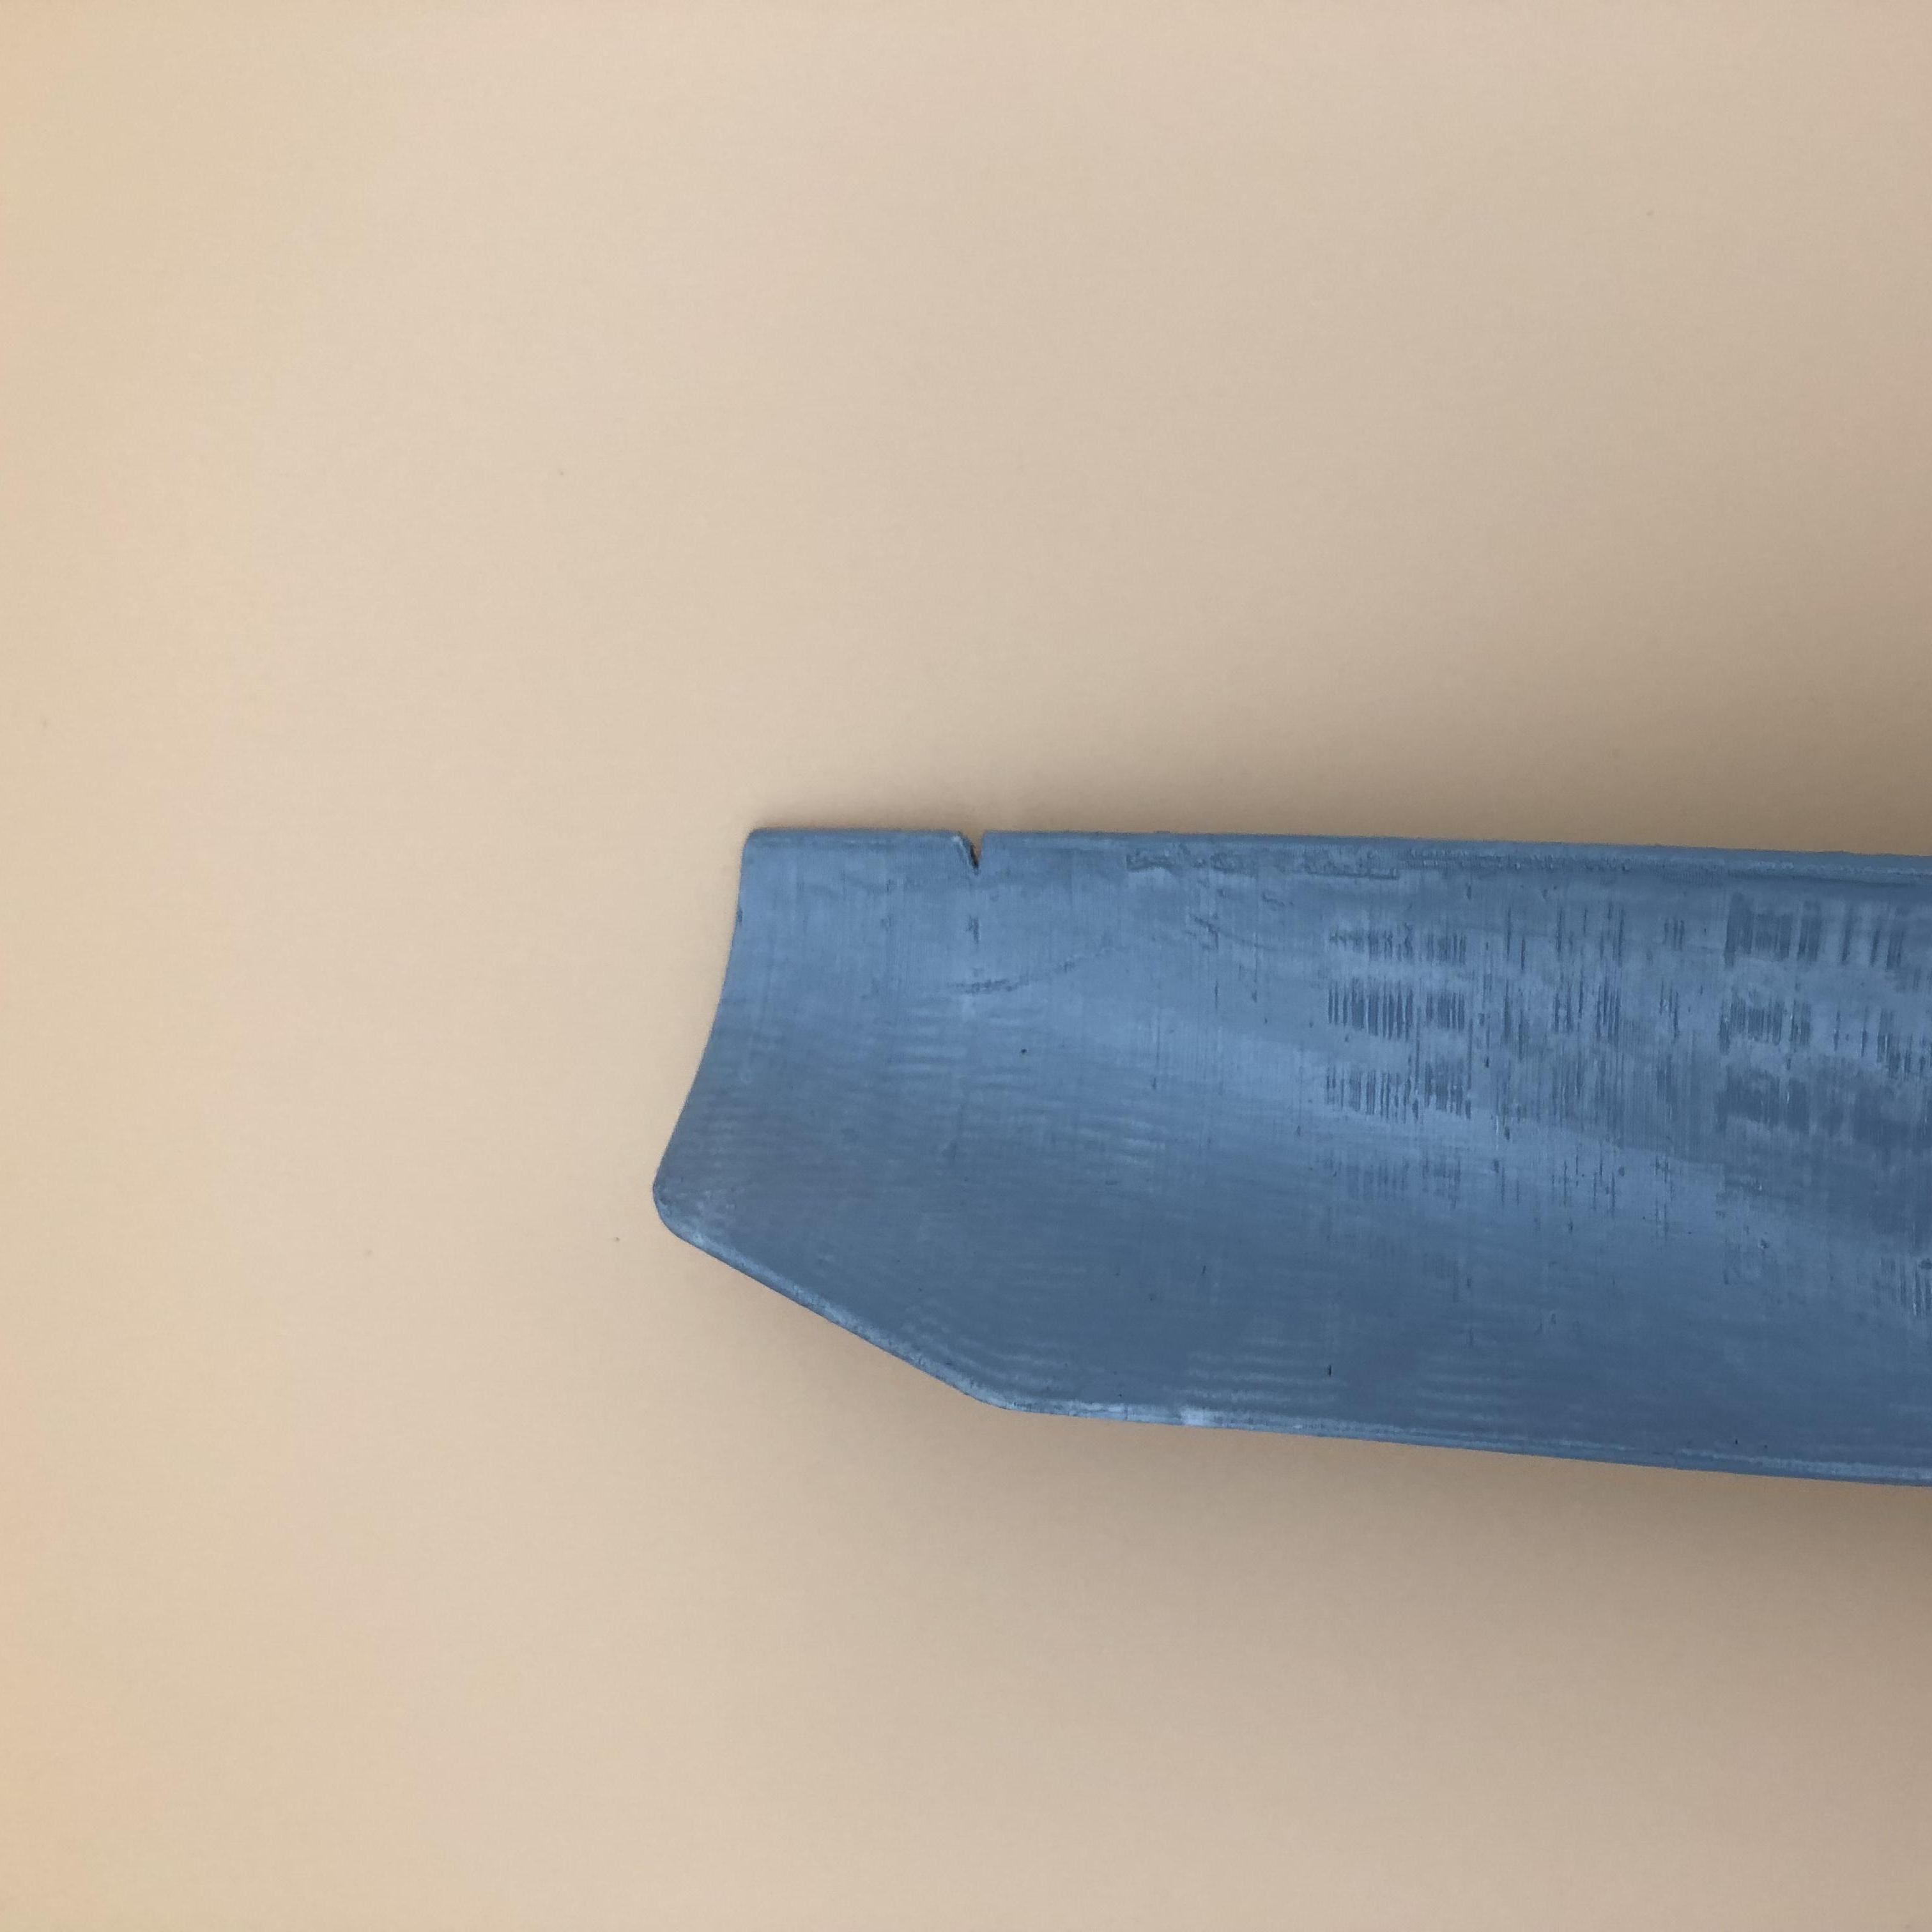groove: (950, 833, 1019, 879)
